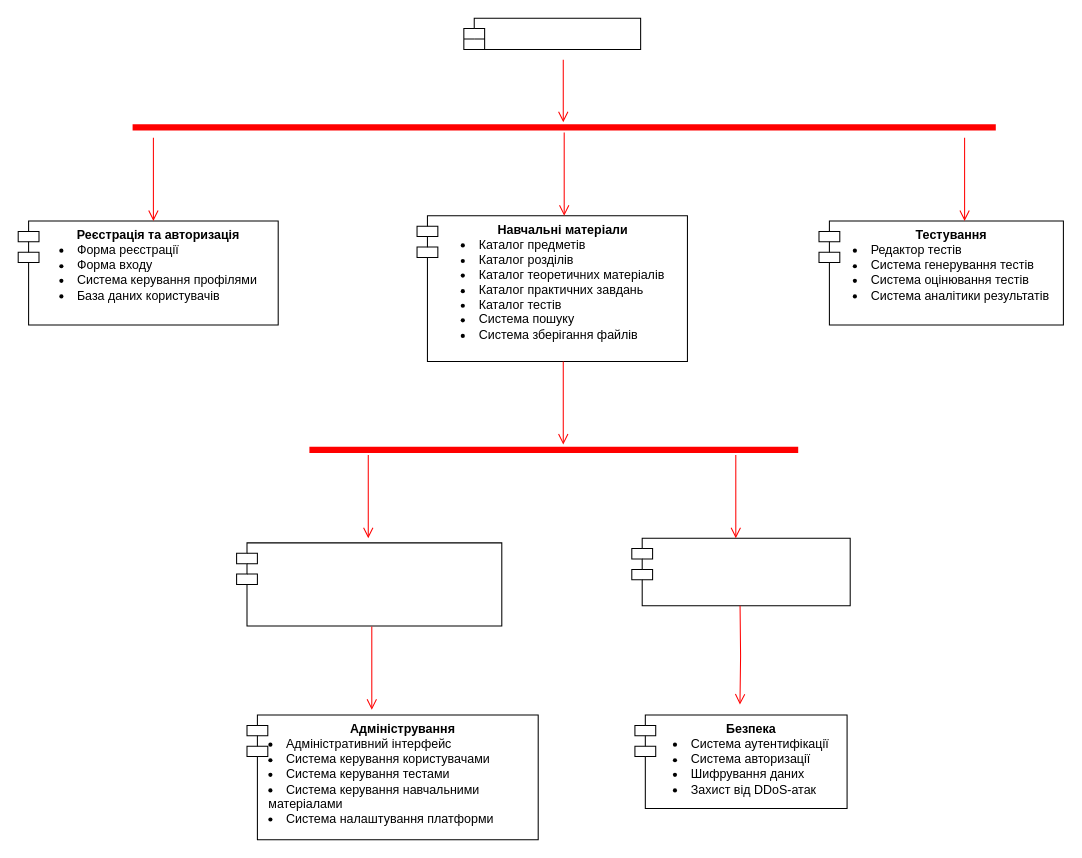
This 1082x858 diagram has some shape labels left out. Each missing label, with the centre of its shape:
"Мобільна версія Мобільний інтерфейс API мобільної версії" goes at pixel 740 571.
"Платформа ЗНО" goes at pixel 552 33.
"Спілкування Форум Чат Система приватних повідомлень" goes at pixel 369 584.
